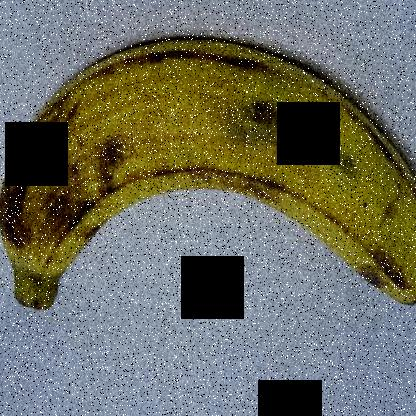overripe: (0, 21, 415, 322)
